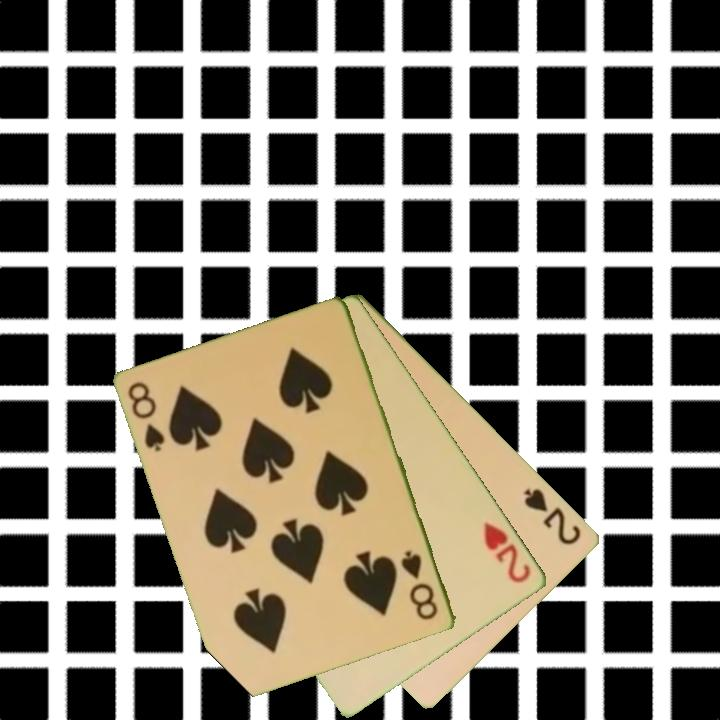2h: (480, 518, 535, 586)
2s: (521, 485, 585, 548)
8s: (125, 378, 169, 455), (397, 547, 441, 623)
